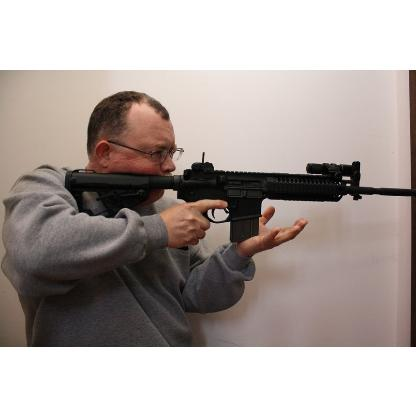gun: (61, 150, 414, 242)
